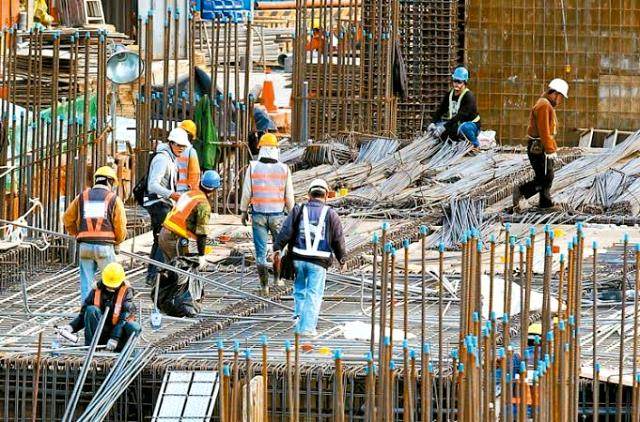helmet: (550, 74, 572, 96), (177, 117, 200, 137), (308, 177, 330, 197), (258, 128, 278, 148), (199, 172, 221, 188), (452, 64, 471, 82), (98, 165, 116, 183), (168, 128, 186, 146)
vest: (243, 156, 290, 214), (78, 182, 116, 247), (296, 198, 332, 261), (170, 188, 208, 234), (172, 146, 196, 190)
